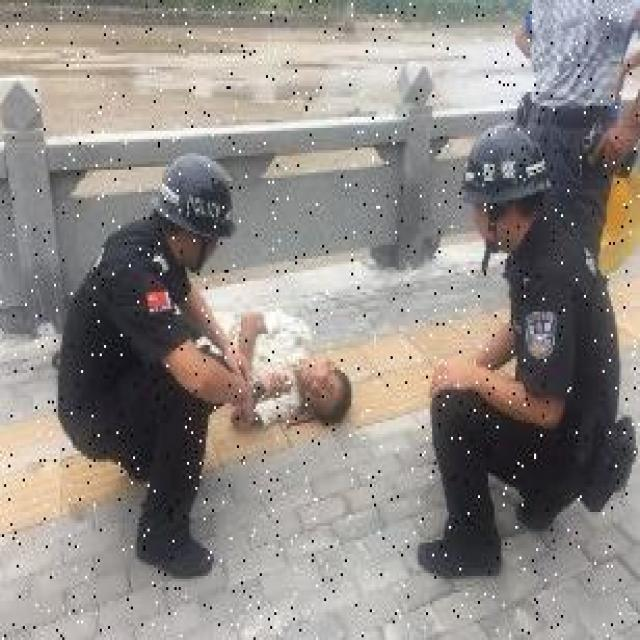fall: (225, 308, 349, 428)
